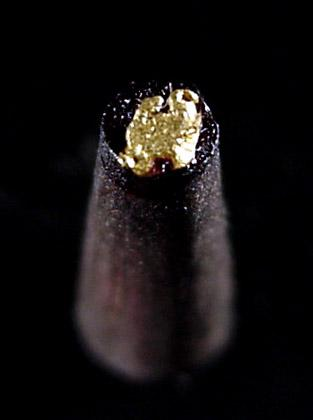gold: (118, 89, 202, 176)
